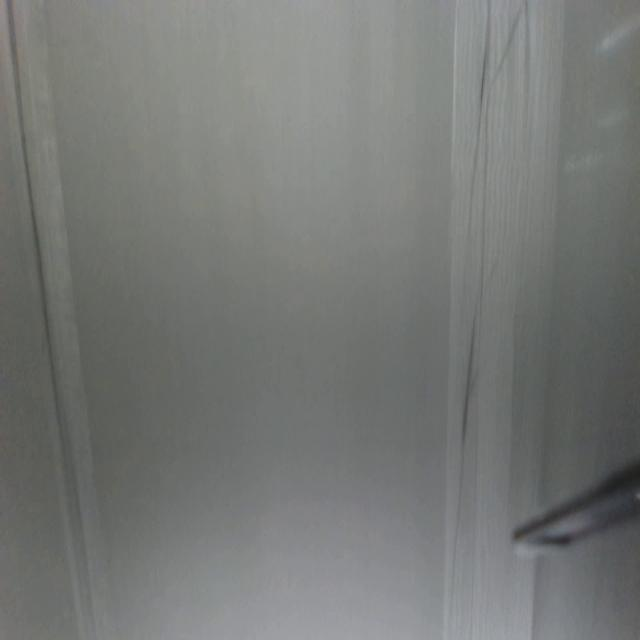crease: (4, 2, 99, 640), (443, 0, 508, 633)
